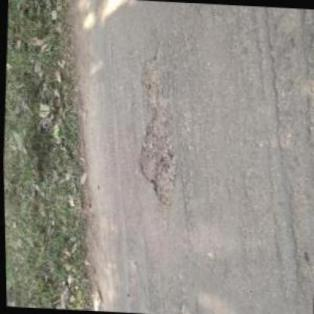Hueco: (130, 51, 182, 211)
